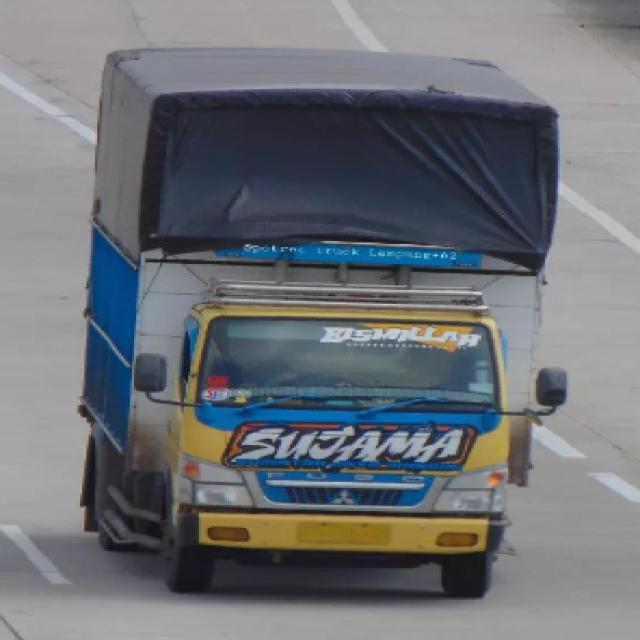truck: (63, 37, 580, 602)
